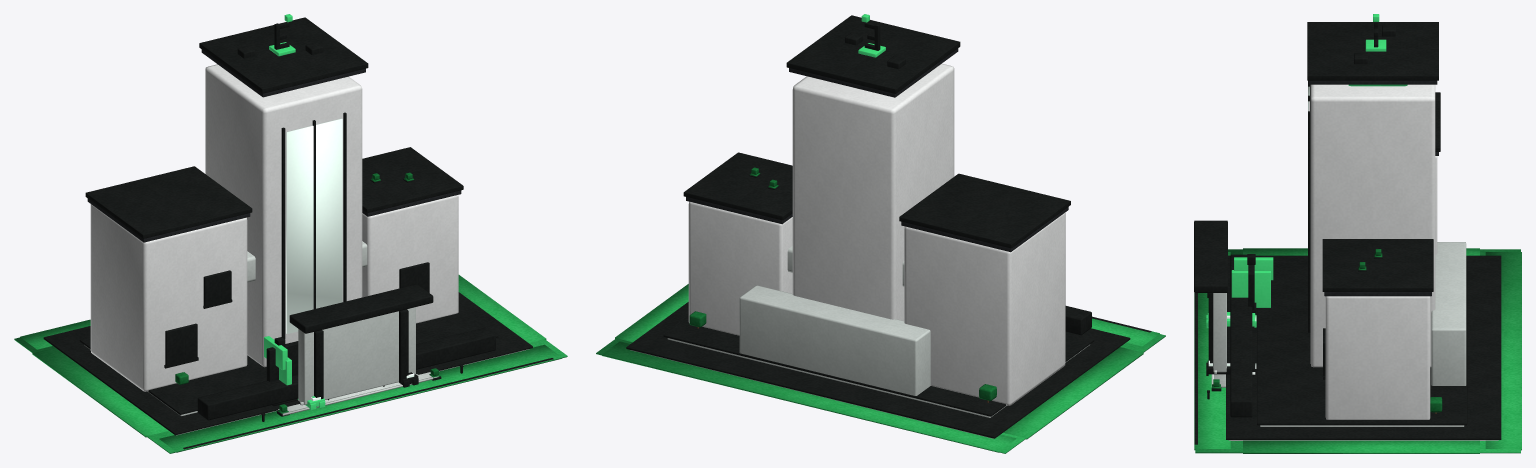
The model's file is pack.agentspace.building.echt.02.glb.
The picture shows the model from 3 angles, left to right: view 1: azimuth 30°, elevation 25°; view 2: azimuth 150°, elevation 25°; view 3: azimuth 270°, elevation 25°; orthographic projection. The views are drawn at different scales.
Parts seen in each view (by area): view 1: mass.left, mass.tower, mass.tower.front.glass, mass.right, entrance.recess, roof.left.lip, roof.tower.lip, site.podium.lip, site.berm.s, pack.agentspace.building.echt.02.link.front, roof.right.lip, podium.lip (+17 smaller); view 2: mass.tower, mass.left, mass.rear, site.podium.lip, mass.right, roof.left.lip, roof.tower.lip, site.berm.n, roof.right.lip, podium.lip, site.berm.w, site.berm.e (+6 smaller); view 3: mass.tower, mass.right, site.podium.lip, podium.lip, roof.tower.lip, roof.right.lip, mass.rear, site.berm.n, site.berm.e, site.berm.s, pack.agentspace.building.echt.02.link.front, entrance.canopy (+12 smaller).
Part boxes in pixels (<box>): mass.left: <box>90,204,247,391</box>; mass.tower: <box>205,64,362,367</box>; mass.tower.front.glass: <box>286,118,342,333</box>; mass.right: <box>362,195,458,323</box>; entrance.recess: <box>298,307,415,404</box>; roof.left.lip: <box>85,166,252,238</box>; roof.tower.lip: <box>199,17,368,93</box>; site.podium.lip: <box>43,292,532,435</box>; site.berm.s: <box>159,344,561,452</box>; pack.agentspace.building.echt.02.link.front: <box>197,327,495,420</box>; roof.right.lip: <box>362,147,463,212</box>; podium.lip: <box>79,307,498,414</box>; mass.tower: <box>792,63,954,320</box>; mass.left: <box>904,213,1065,405</box>; mass.rear: <box>739,285,930,395</box>; site.podium.lip: <box>626,302,1130,438</box>; mass.right: <box>688,201,792,335</box>; roof.left.lip: <box>899,173,1070,248</box>; roof.tower.lip: <box>786,15,960,93</box>; site.berm.n: <box>602,341,1016,452</box>; roof.right.lip: <box>683,152,792,220</box>; podium.lip: <box>663,317,1094,416</box>; site.berm.w: <box>1003,347,1143,439</box>; site.berm.e: <box>615,284,688,342</box>; mass.tower: <box>1310,84,1435,367</box>; mass.right: <box>1325,296,1430,419</box>; site.podium.lip: <box>1226,255,1501,439</box>; podium.lip: <box>1257,261,1467,425</box>; roof.tower.lip: <box>1307,22,1438,80</box>; roof.right.lip: <box>1322,239,1433,291</box>; mass.rear: <box>1431,242,1466,385</box>; site.berm.n: <box>1485,252,1521,450</box>; site.berm.e: <box>1243,440,1479,453</box>; site.berm.s: <box>1194,252,1230,450</box>; pack.agentspace.building.echt.02.link.front: <box>1230,254,1252,417</box>; entrance.canopy: <box>1194,220,1227,292</box>.
Bounding box in the file's own units: 48.44 × 37.6 × 32.87.
17 materials, 10 textured.
